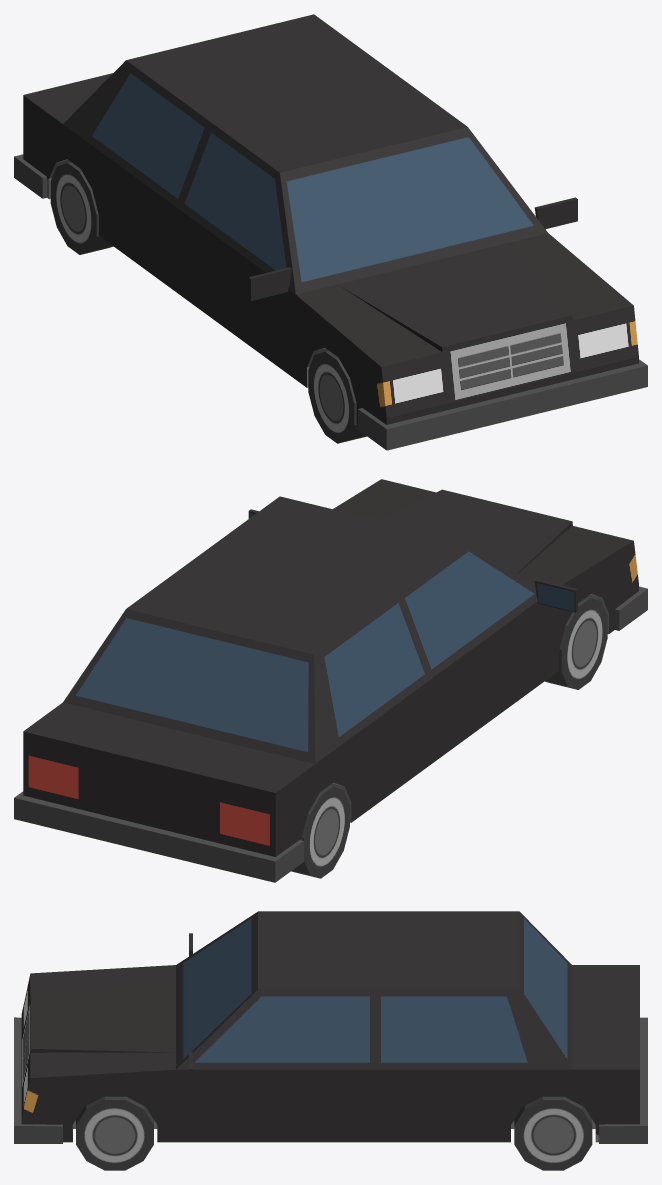
The model's file is Sedan_S.fbx.
3 renders of one model, top to bottom at view 1: azimuth 30°, elevation 25°; view 2: azimuth 150°, elevation 25°; view 3: azimuth 270°, elevation 25°, orthographic. The views are drawn at different scales.
Visible parts, largest first — view 1: Sedan_S; view 2: Sedan_S; view 3: Sedan_S.
Boxes of the visible parts, left/top/right/bottom form: Sedan_S: left=14, top=14, right=647, bottom=450; Sedan_S: left=14, top=479, right=647, bottom=882; Sedan_S: left=14, top=911, right=647, bottom=1170.
Bounding box in the file's own units: 263 × 151 × 519.
